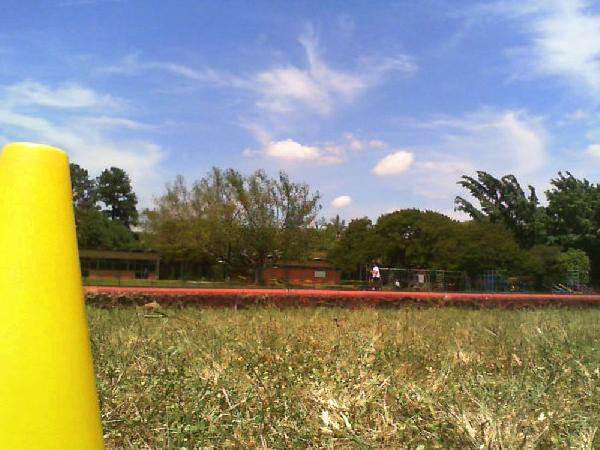0 cone: (0, 142, 106, 450)
